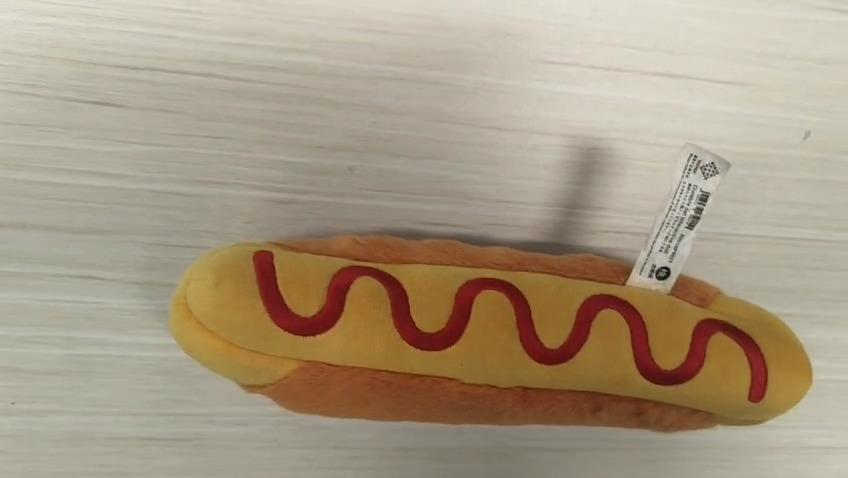hotdog: (168, 232, 813, 432)
